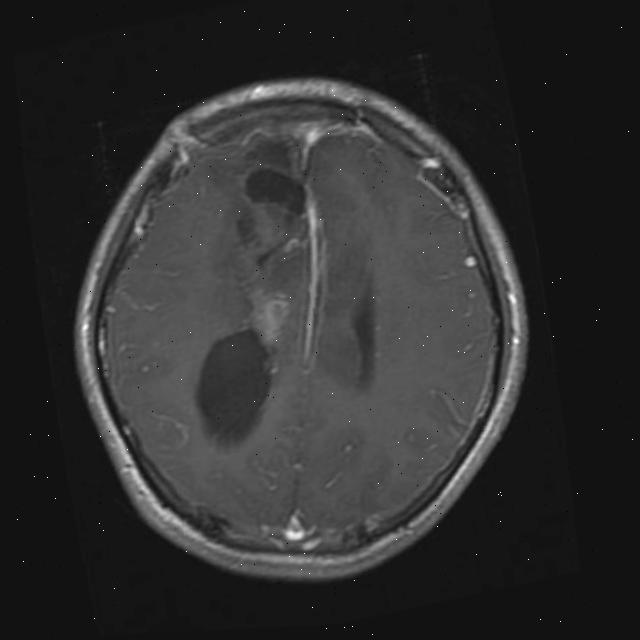Glioma: (241, 278, 300, 355)
